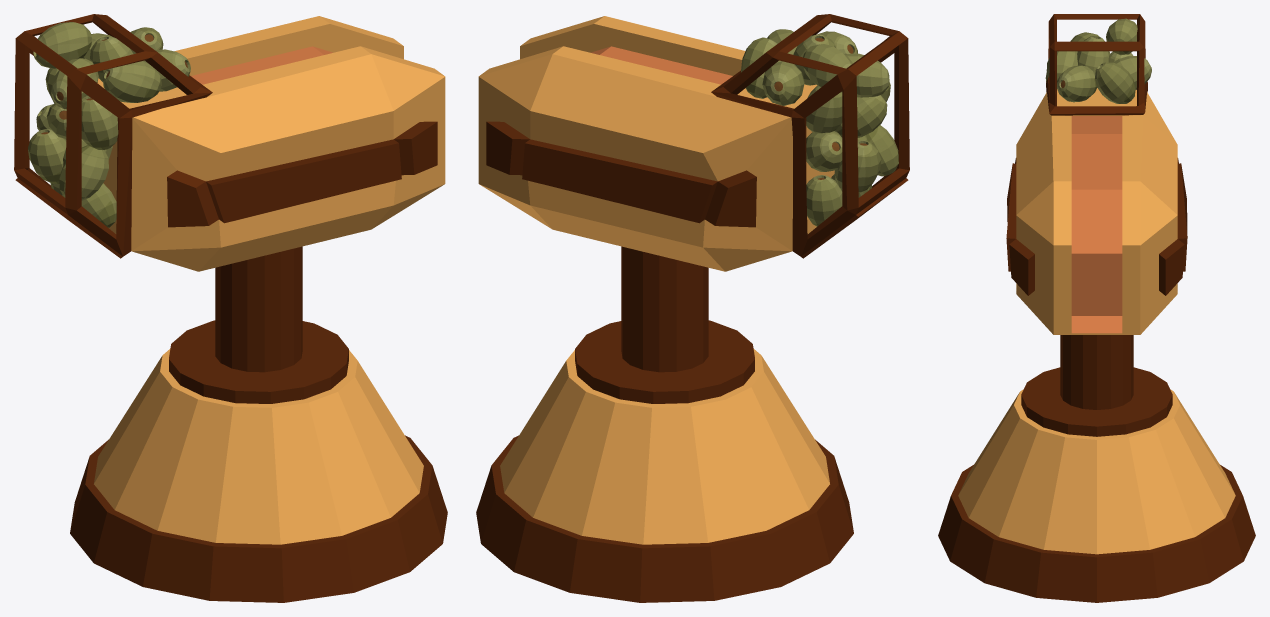
File: zeytinatarv6.fbx
The picture shows the model from 3 angles, left to right: view 1: azimuth 30°, elevation 25°; view 2: azimuth 150°, elevation 25°; view 3: azimuth 270°, elevation 25°; orthographic projection. The views are drawn at different scales.
Parts seen in each view (by area): view 1: Cube.033, parentli kurdanatar.002; view 2: Cube.033, parentli kurdanatar.002; view 3: parentli kurdanatar.002, Cube.033.
Boxes of the visible parts, x1,y1,x2,y2 form: Cube.033: [14, 14, 445, 271]; parentli kurdanatar.002: [70, 246, 447, 602]; Cube.033: [478, 14, 909, 271]; parentli kurdanatar.002: [476, 246, 853, 602]; parentli kurdanatar.002: [938, 335, 1255, 602]; Cube.033: [1006, 14, 1187, 334].
Bounding box in the file's own units: 234 × 307 × 200.
3 materials, 3 textured.
